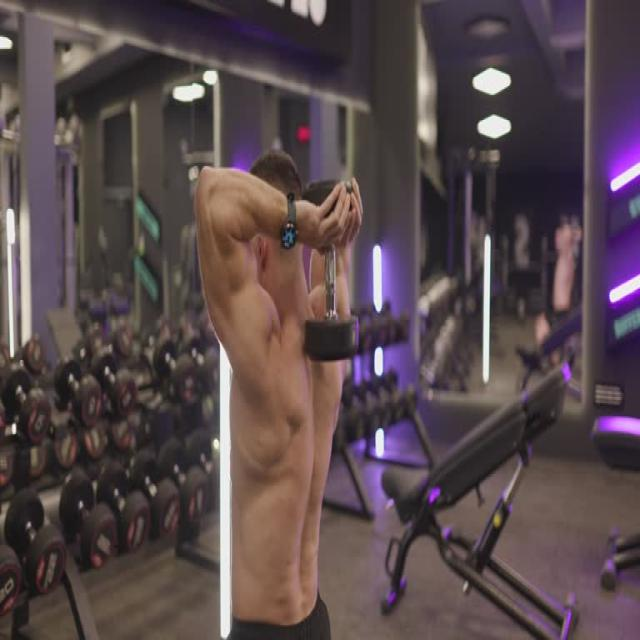no_helmet: (236, 204, 322, 280)
